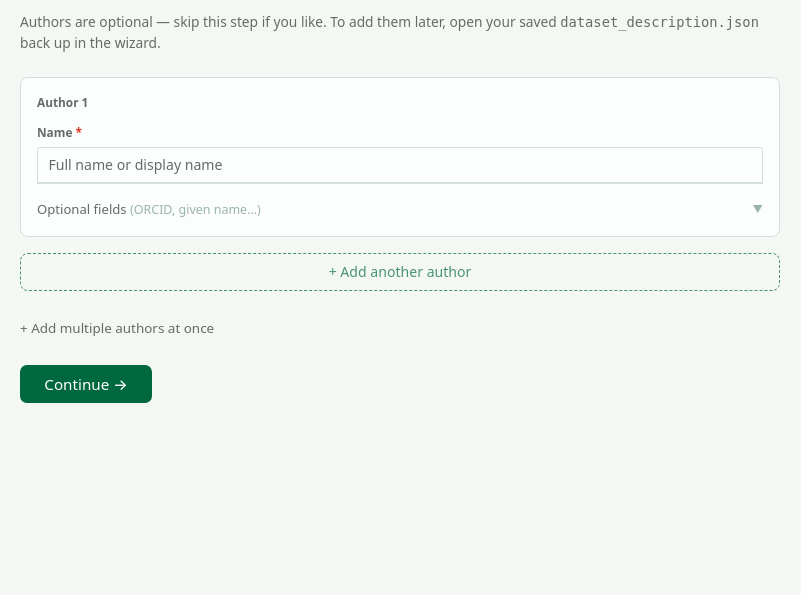
Test case: Authors › remove author › Remove buttons appear on all cards when there are multiple
Step 1. Click the button "+ Add another author" → [400, 272], box [20,252,780,291]
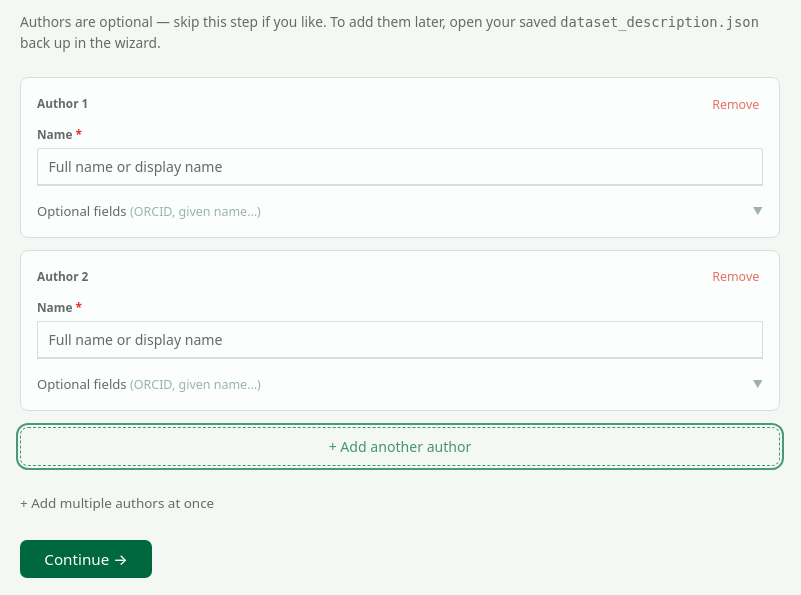
Result: the 1st button "Remove" is shown at [708,94,763,114]
Result: the 2nd button "Remove" is shown at [708,267,763,287]
